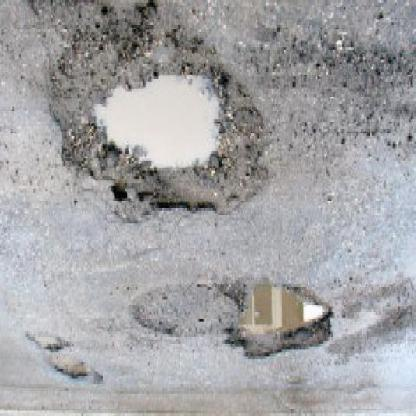pothole: (49, 2, 271, 223), (216, 281, 337, 364), (53, 355, 105, 389), (27, 331, 72, 355)
